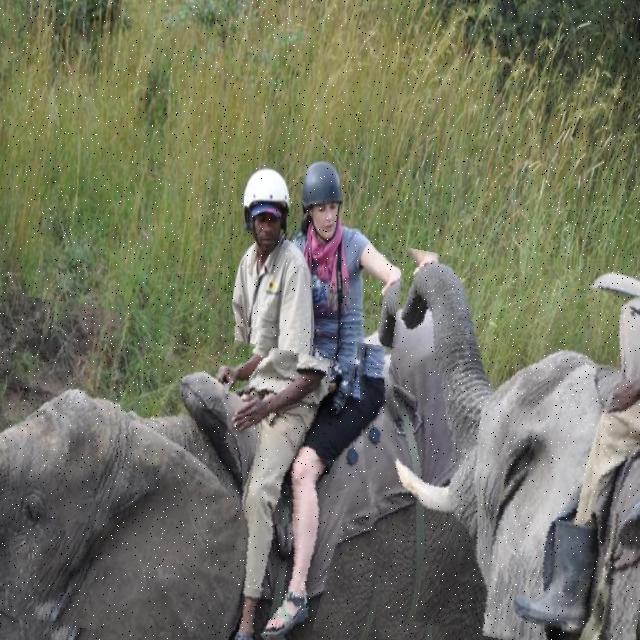elephant: (0, 312, 500, 640), (350, 258, 640, 640)
